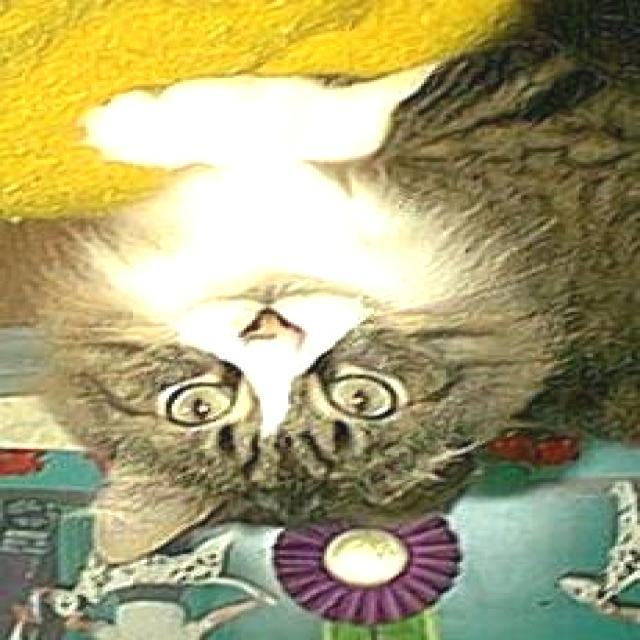Kucing: (0, 2, 640, 614)
